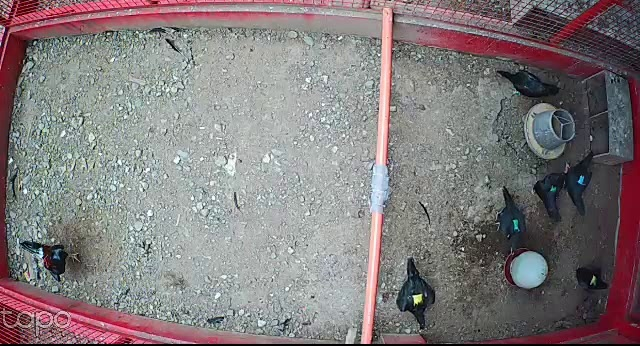Chicken: (393, 256, 439, 333), (529, 161, 571, 224), (494, 187, 528, 258), (562, 150, 597, 216), (571, 264, 609, 291)
Saddle_Color_Blue: (575, 176, 586, 184)
Saddle_Color_Yellow: (410, 293, 424, 307)
